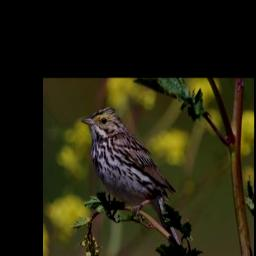Sparrow: (79, 104, 186, 246)
